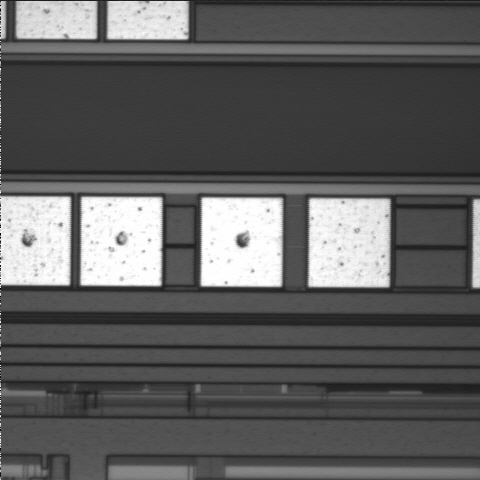pad: (81, 197, 162, 286), (201, 198, 282, 287), (309, 198, 390, 287)
